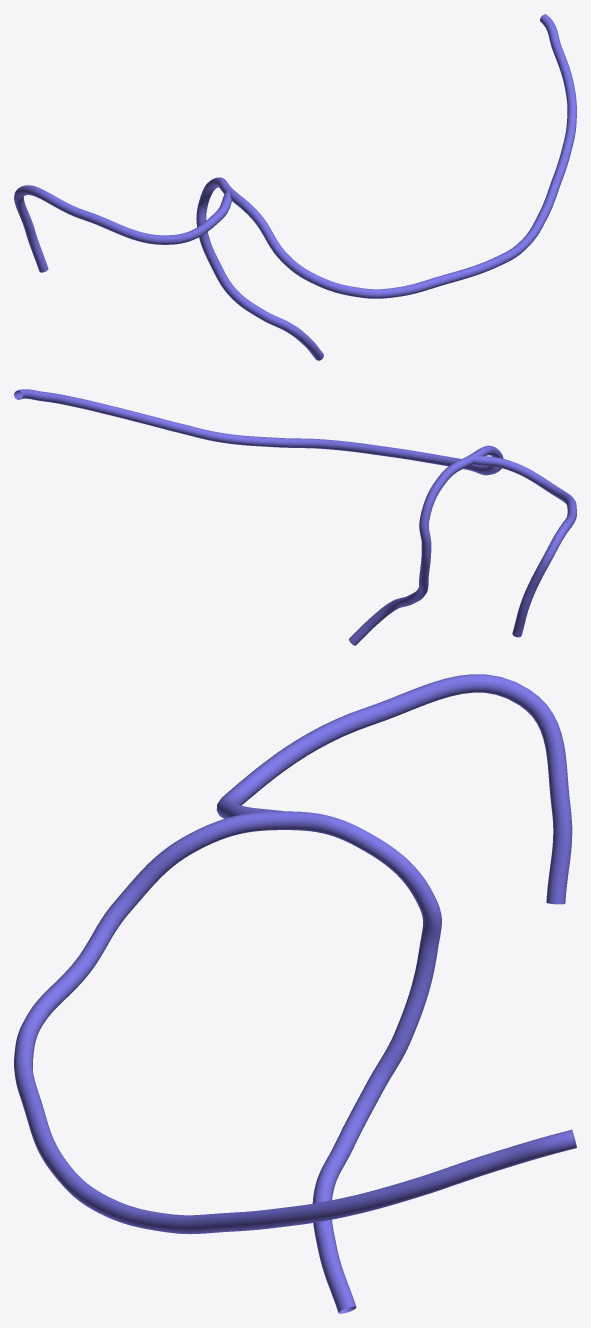
The model's file is Right_gastro-omental_vein_BezierCurve.397.glb.
3 views of the same model, one above another, from view 1: azimuth 30°, elevation 25°; view 2: azimuth 150°, elevation 25°; view 3: azimuth 270°, elevation 25° (orthographic). The views are drawn at different scales.
Parts seen in each view (by area): view 1: Right_gastro-omental_vein_BezierCurve.397; view 2: Right_gastro-omental_vein_BezierCurve.397; view 3: Right_gastro-omental_vein_BezierCurve.397.
Part boxes in pixels (x1,y1,x2,y2): Right_gastro-omental_vein_BezierCurve.397: (14, 14, 576, 360); Right_gastro-omental_vein_BezierCurve.397: (14, 389, 576, 645); Right_gastro-omental_vein_BezierCurve.397: (14, 674, 576, 1313).
Bounding box in the file's own units: 0.1278 × 0.0525 × 0.0591.
